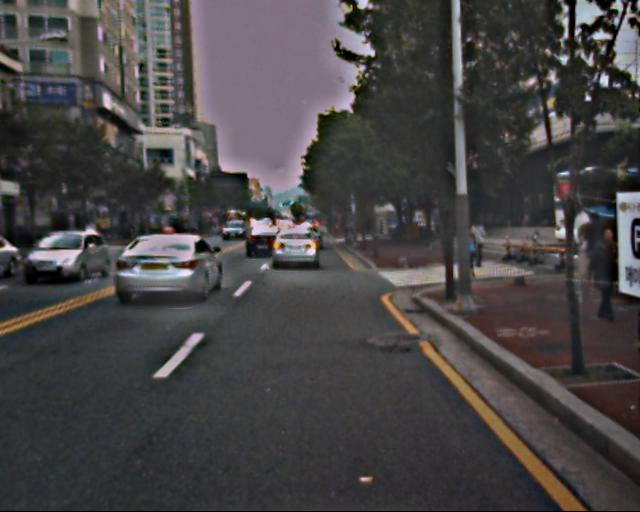person: (588, 225, 627, 321), (576, 212, 608, 291), (456, 223, 481, 285), (468, 216, 487, 262)
